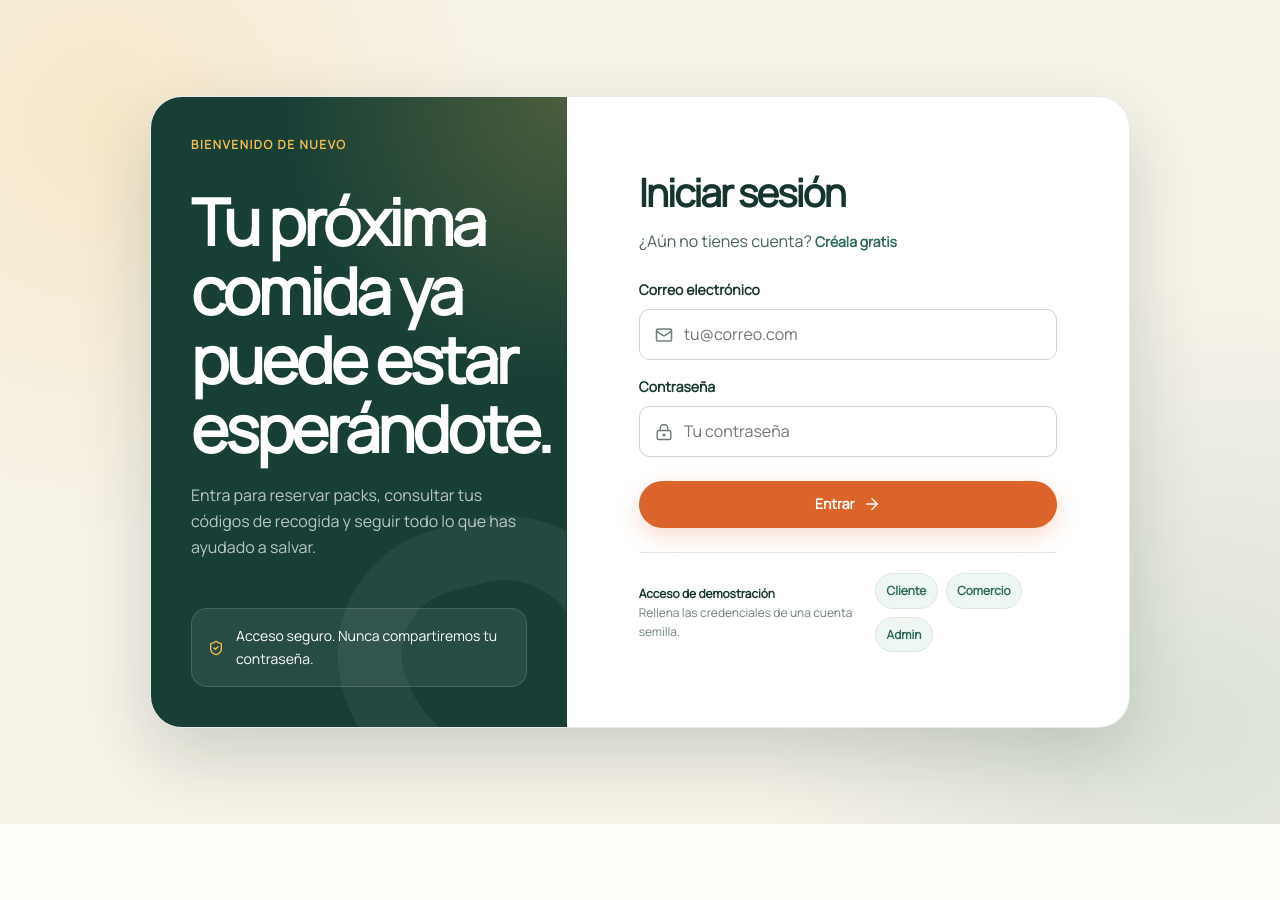
Test: formularios de acceso › no envía el login y anuncia los errores cuando faltan credenciales
Click the button "Entrar" at [848, 504], box [639,481,1057,528]
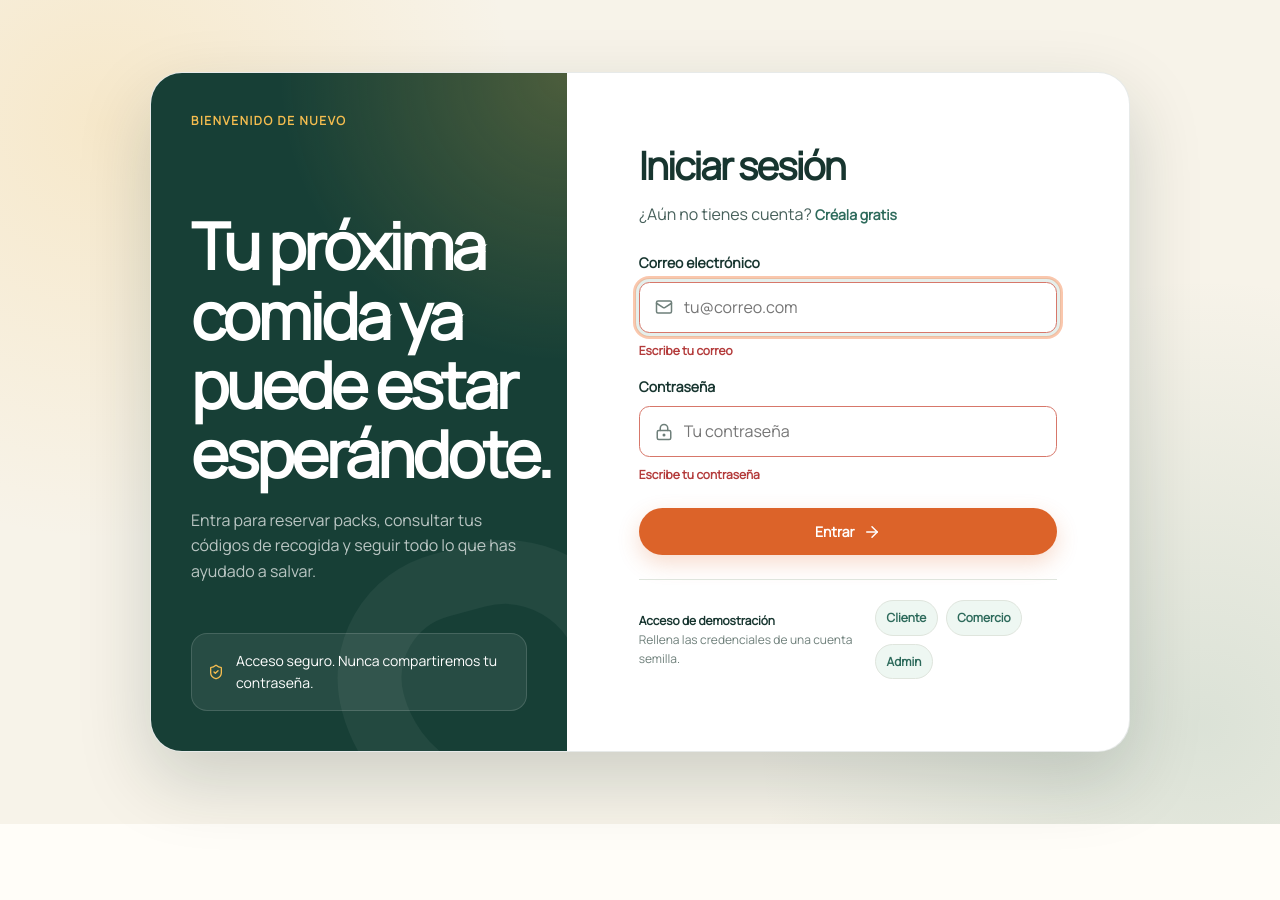
expect the text "Escribe tu correo" is shown: met, box [639,342,733,359]
expect the text "Escribe tu contraseña" is shown: met, box [639,466,760,483]
